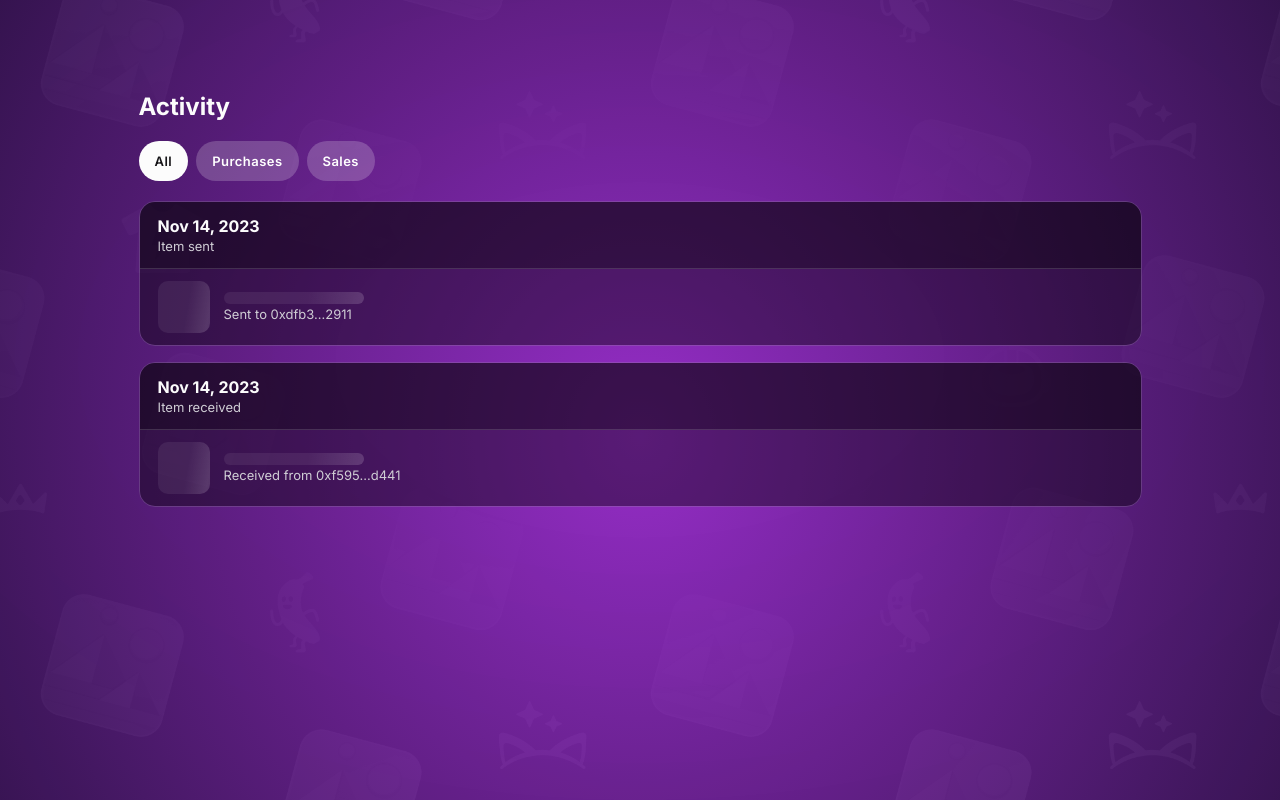
Scenario: when the user sent an item and received another › should not show or read them under the Purchases filter
The width and height of the screenshot is (1280, 800).
Click the tab with test id "activity-filter-purchases": coordinates (247, 161) [196,141,298,181]
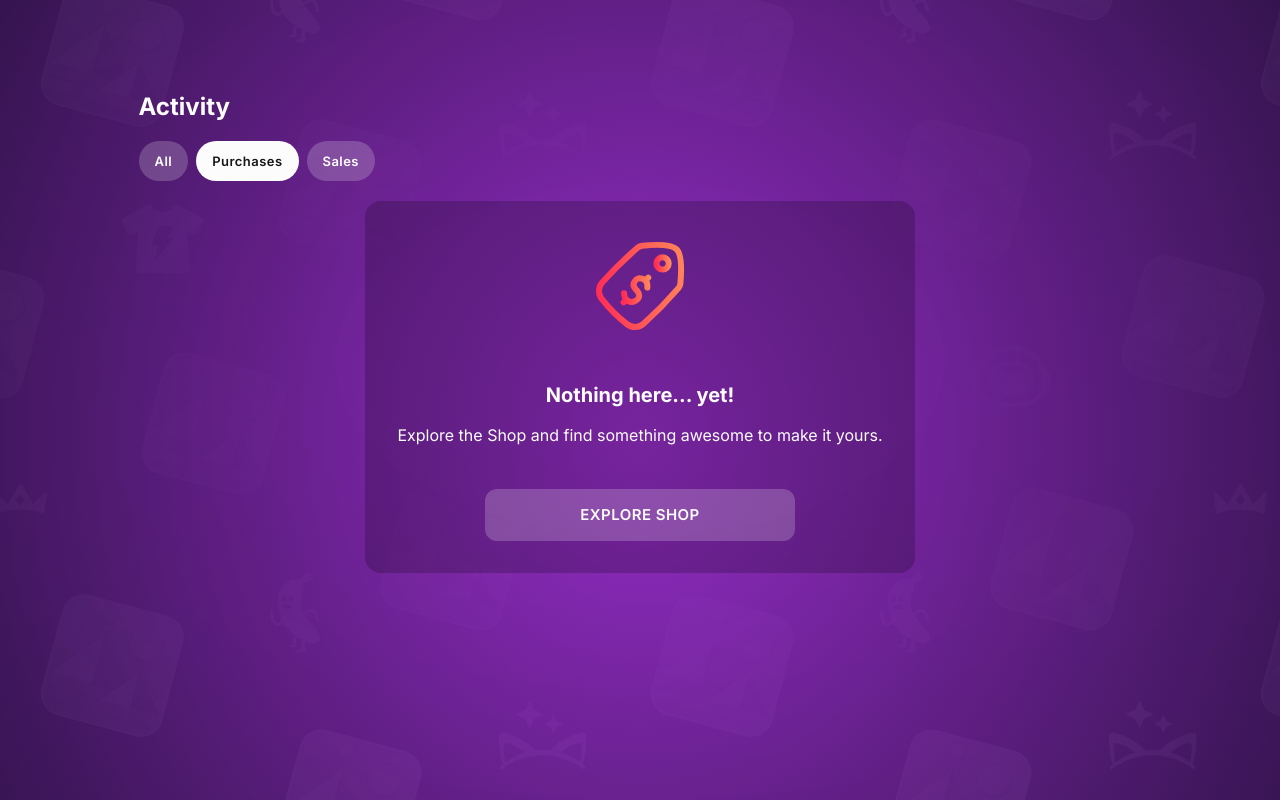
Check: the element with test id "activity-transfer" is gone
